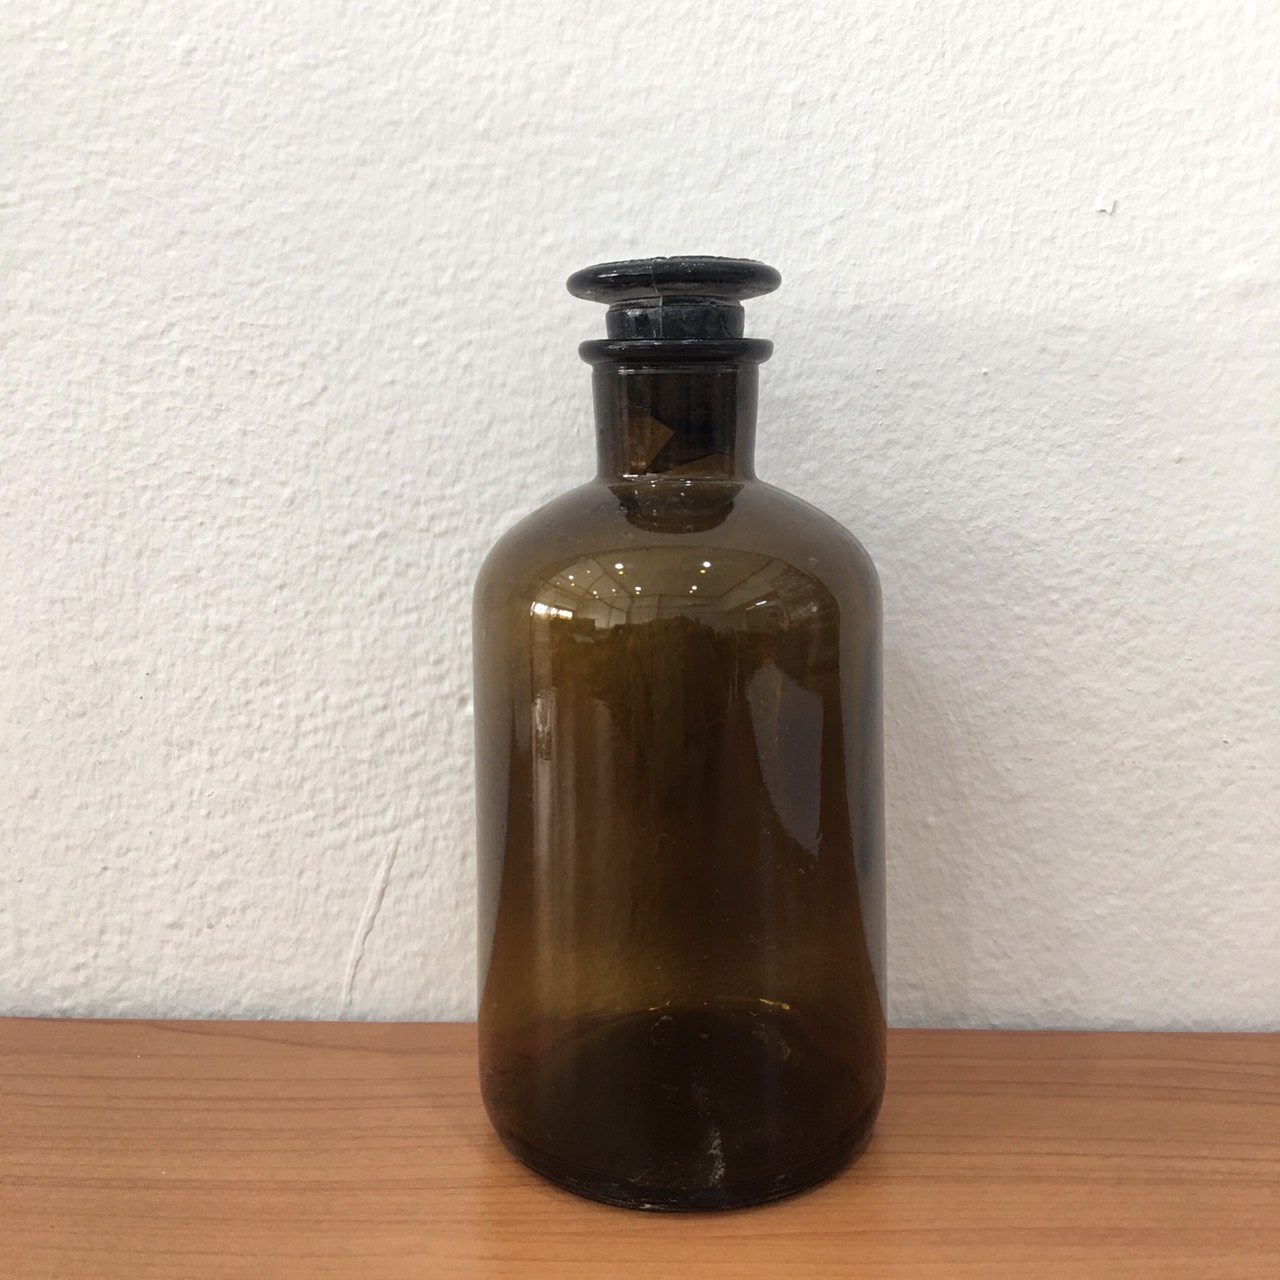glass_bottle: (407, 206, 949, 1241)
